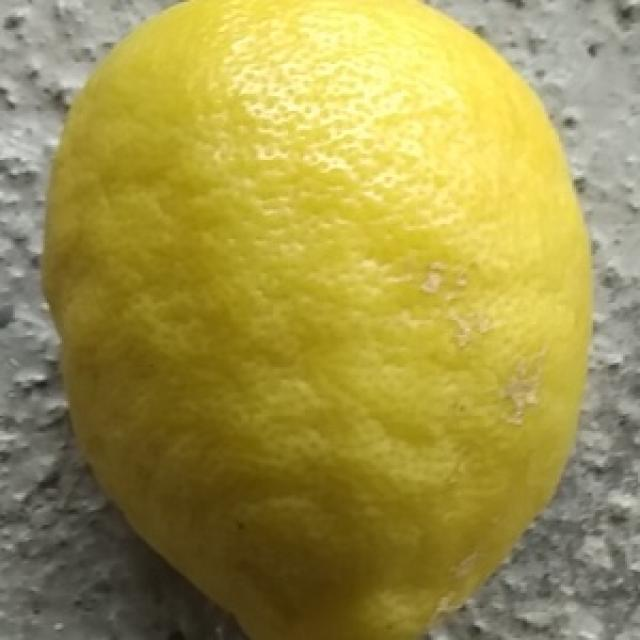Ripe: (34, 0, 602, 640)
